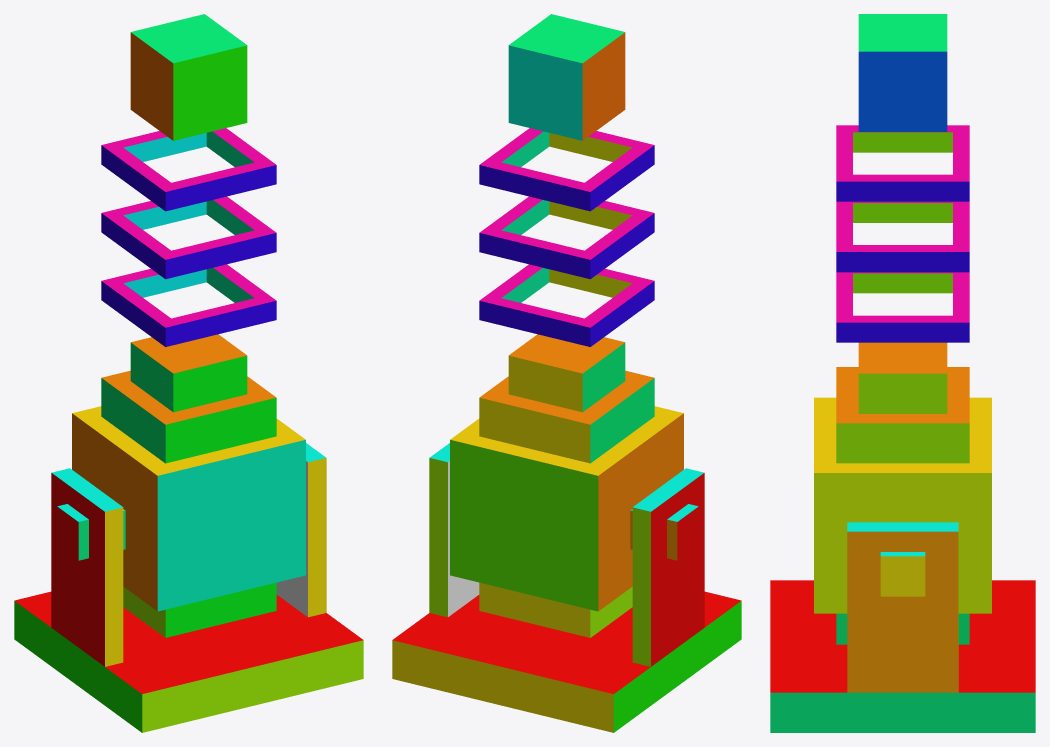
Rendered from bore.obj.
The picture shows the model from 3 angles, left to right: view 1: azimuth 30°, elevation 25°; view 2: azimuth 150°, elevation 25°; view 3: azimuth 270°, elevation 25°; orthographic projection. The views are drawn at different scales.
Parts seen in each view (by area): view 1: BoreCore, BoreBase, FocusCrystal, RingFront, RingCenter, RingBack; view 2: BoreCore, BoreBase, FocusCrystal, RingFront, RingCenter, RingBack; view 3: BoreBase, BoreCore, FocusCrystal, RingFront, RingCenter, RingBack.
Part boxes in pixels (x1,y1,x2,y2): BoreCore: (72,334,305,637); BoreBase: (14,443,363,732); FocusCrystal: (130,14,247,140); RingFront: (101,128,276,211); RingCenter: (101,196,276,279); RingBack: (101,264,276,346); BoreCore: (450,334,683,637); BoreBase: (392,443,741,732); FocusCrystal: (508,14,625,140); RingFront: (479,128,654,211); RingCenter: (479,196,654,279); RingBack: (479,264,654,346); BoreBase: (770,522,1035,732); BoreCore: (814,342,991,644); FocusCrystal: (858,14,947,131); RingFront: (836,125,969,201); RingCenter: (836,201,969,272); RingBack: (836,272,969,342).
Bounding box in the file's own units: 0.8125 × 2 × 0.7475.
